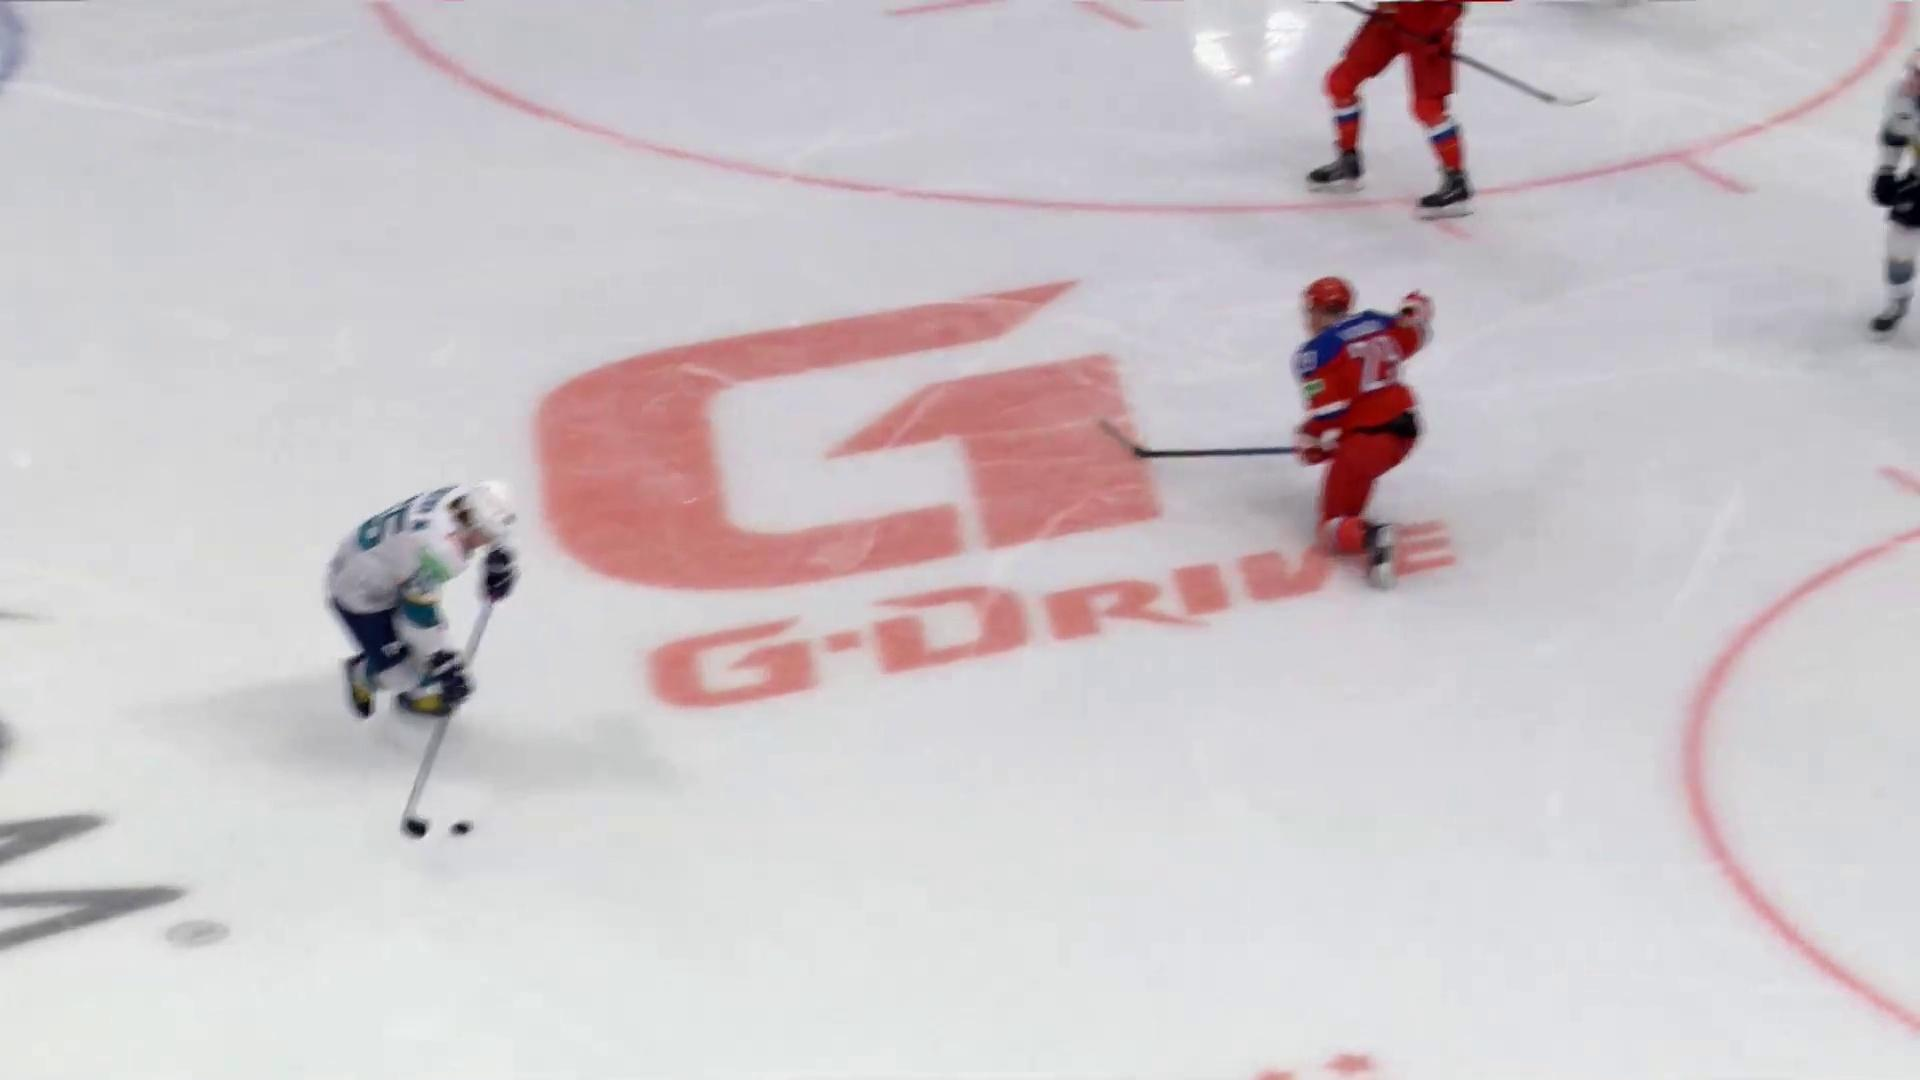ball: (450, 819, 475, 836)
